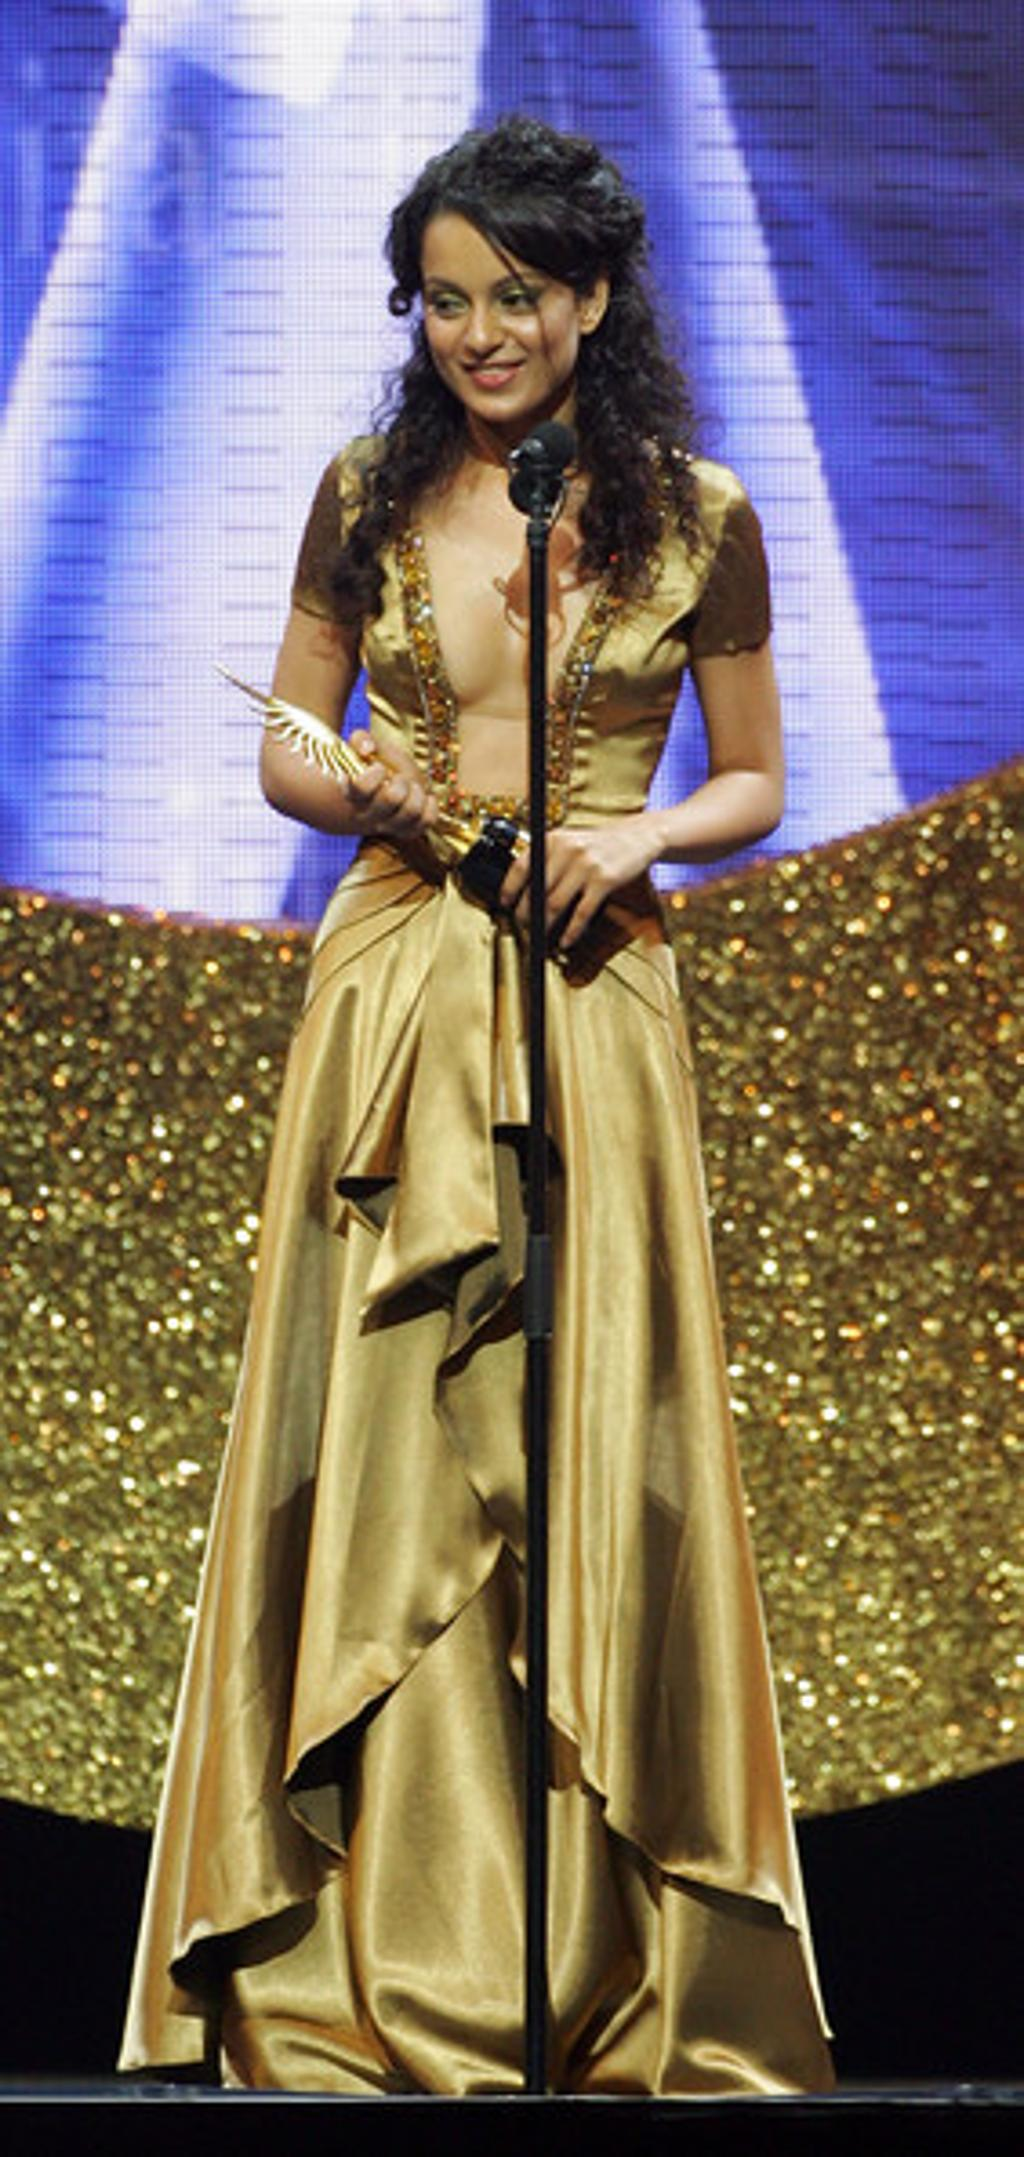face: (427, 212, 583, 423)
